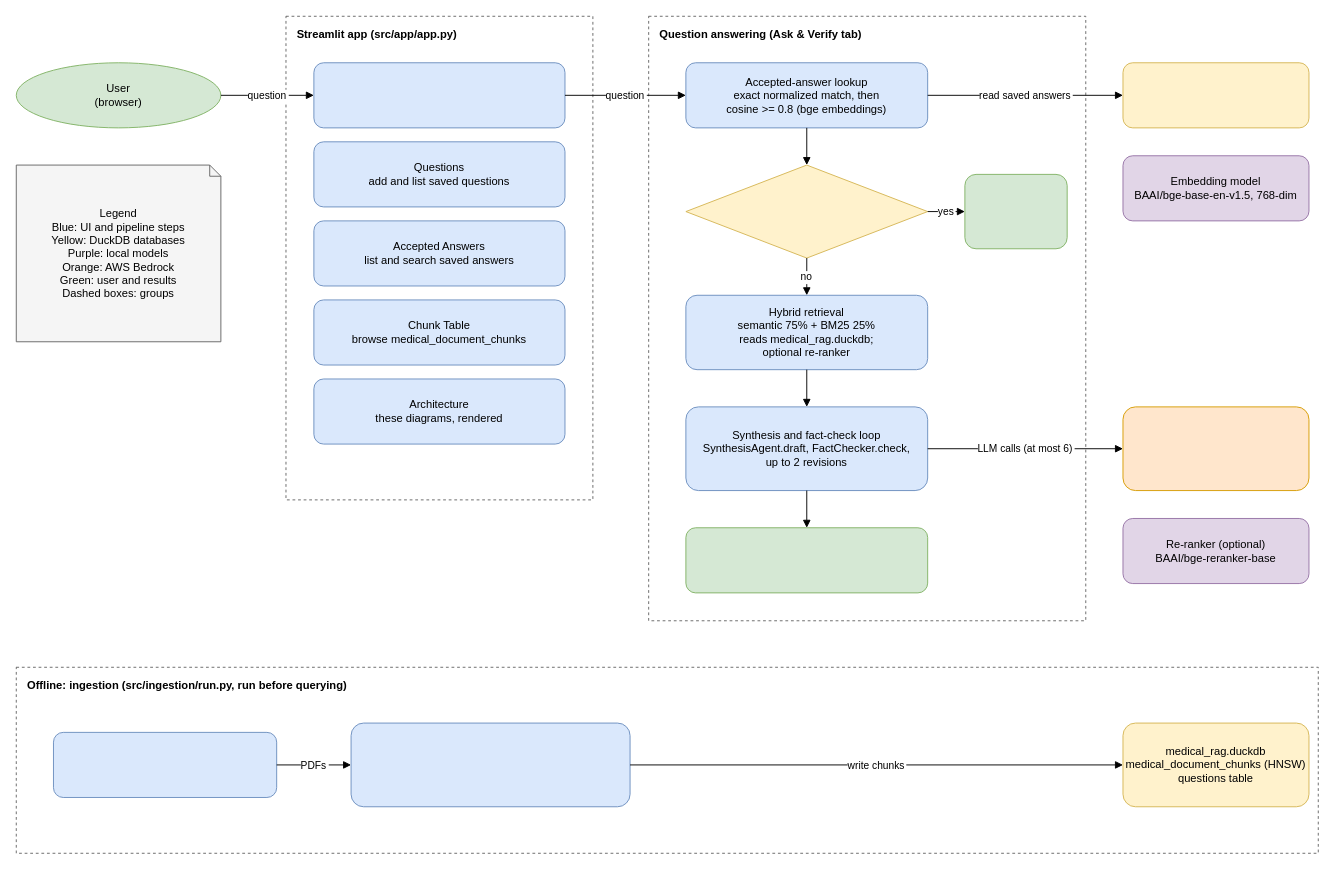
The diagram is 1335 pixels wide and 870 high, and some of its shapes have lost their labels. Here are the shapes that lost their labels. From the top down, the centre of each, then its label:
(439,95): Ask & Verify question, document filter, re-ranker toggle
(1215,95): accepted_answers.duckdb saved questions and answers
(806,211): Saved answer found and confirmed?
(1015,211): Show saved answer no LLM call
(1215,448): Amazon Bedrock Nova 2 Lite, credentials from sidebar
(806,560): Answer shown with draft attempts Accept saves it to accepted answers
(165,764): PDF library data/pdfs/*.pdf
(490,764): Ingestion pipeline extract, chunk, embed, store (see Ingestion diagram)
